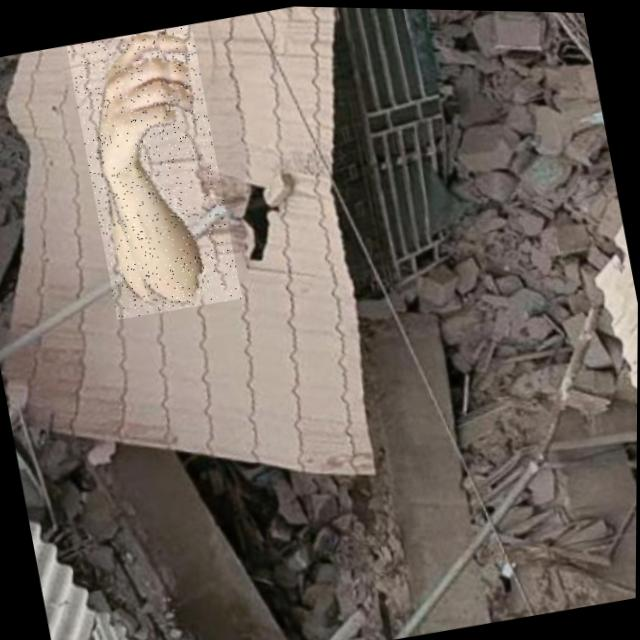Person in Rubble: (65, 20, 244, 320)
